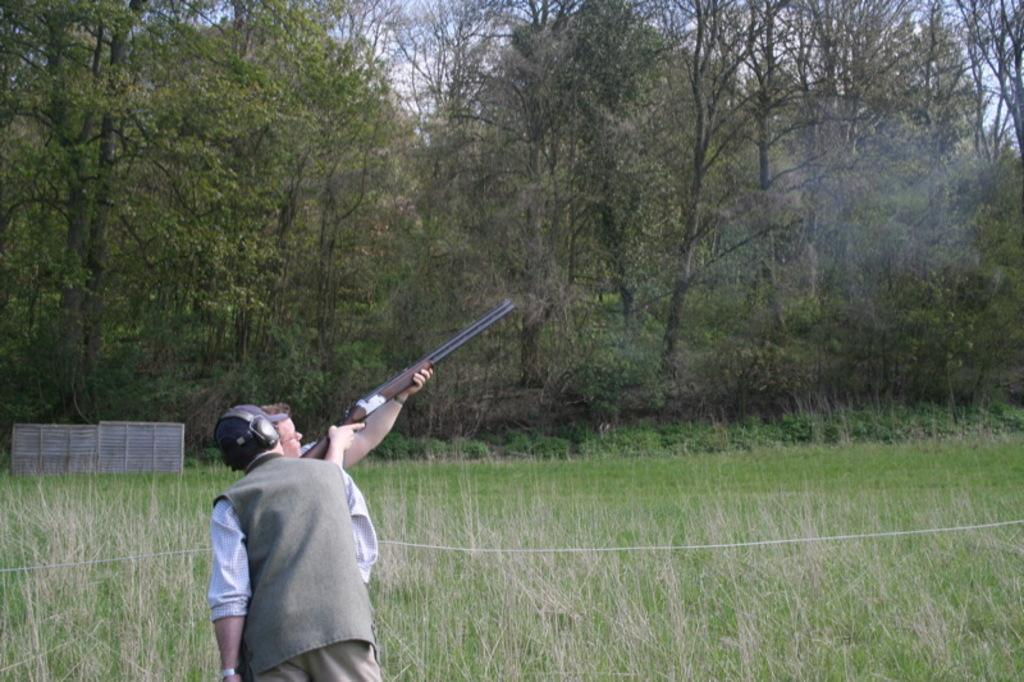Rifle: (302, 303, 511, 453)
